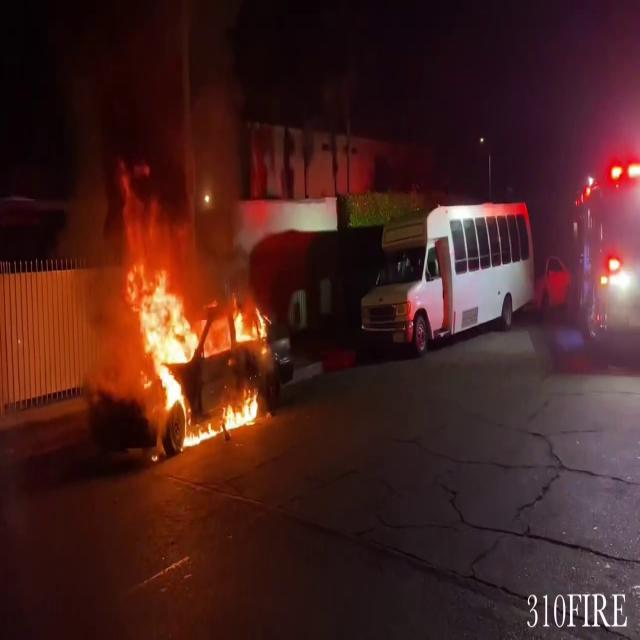Fire: (124, 254, 267, 452)
